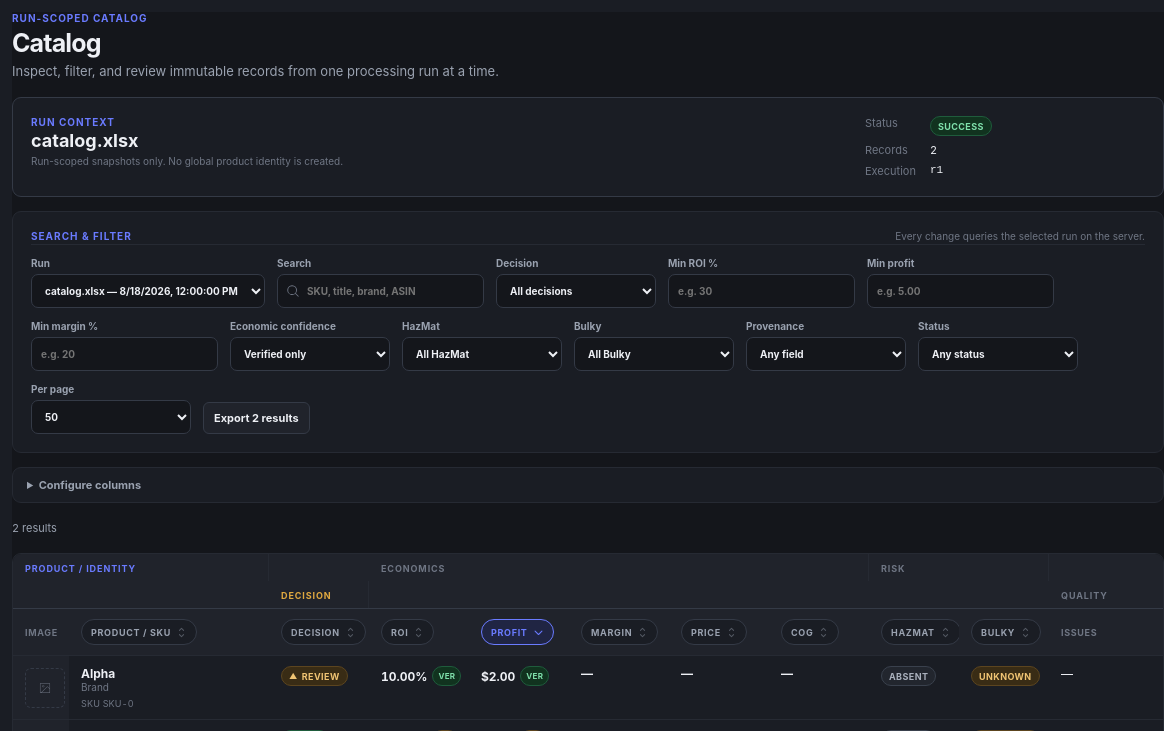
ProductsPage › resets the active query state without changing the selected run contract
The image size is (1164, 731).
Expected: the text "Alpha" is shown, [81,666,115,681]
Select "BUY" in the dropdown named "filter by decision" at (576, 291), box [496,274,656,308]
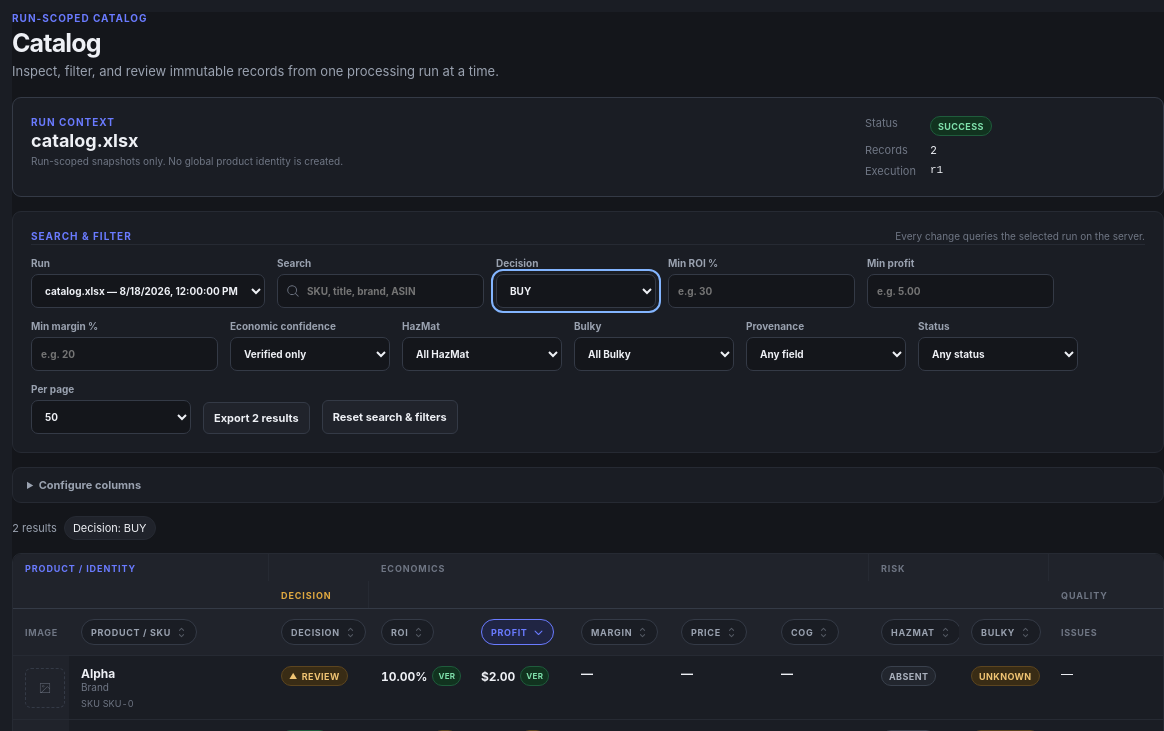
Expected: the button "Reset search & filters" is shown
Click the button "Reset search & filters" at (390, 417), box [322,400,458,434]
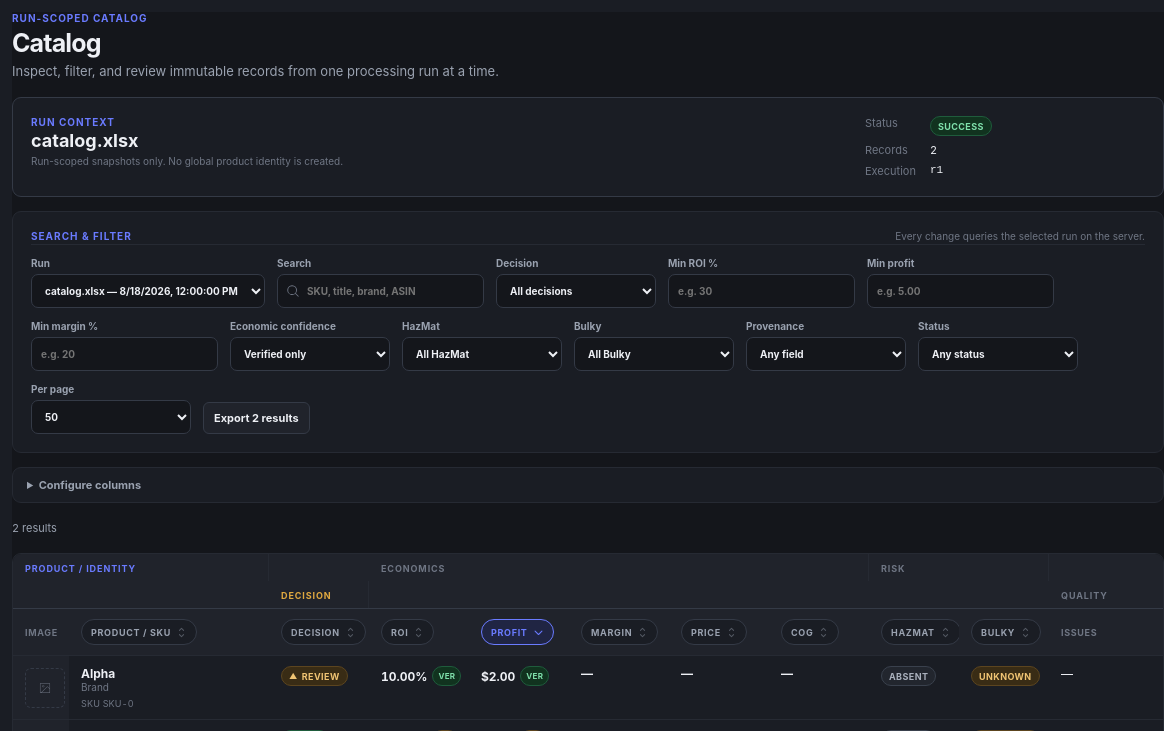
Expected: the button "Reset search & filters" is gone
